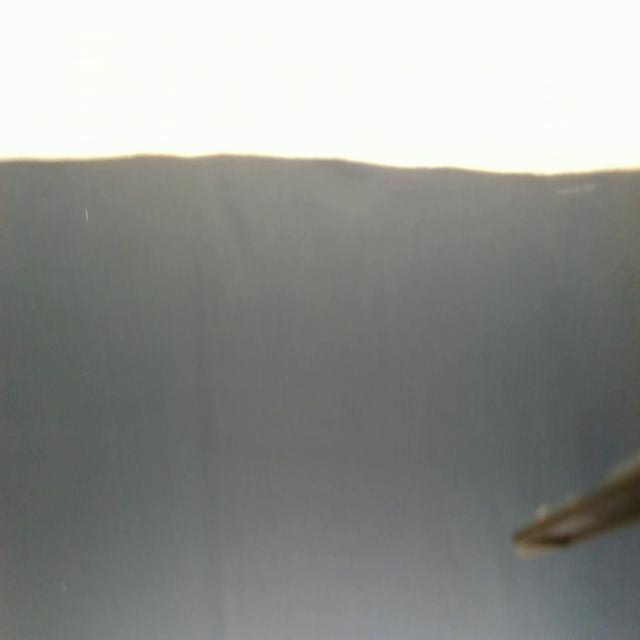hole: (84, 207, 91, 224)
